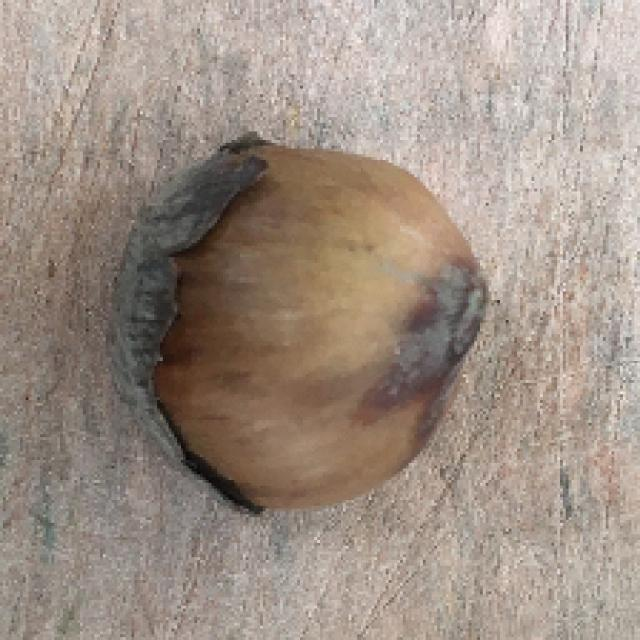damagedHazelnut: (108, 141, 488, 513)
